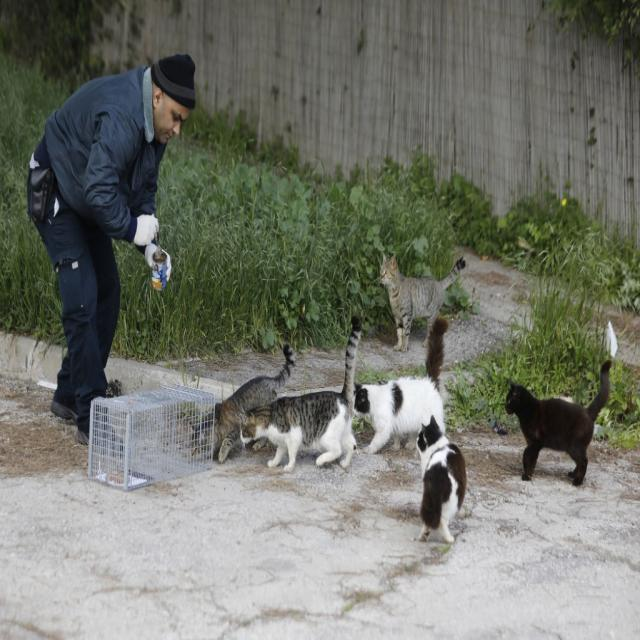cat: (241, 317, 361, 470), (505, 359, 611, 486), (355, 317, 449, 453), (214, 344, 295, 460), (380, 255, 466, 351), (418, 417, 466, 543), (191, 413, 212, 455)
